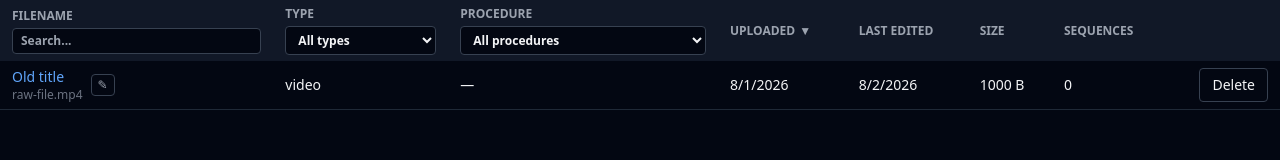
MediaLibraryTable › keeps Save disabled for a blank name
Expected: the text "Old title" is shown, [12, 67, 64, 86]
Click the button named "rename \"Old title\"": {"x": 103, "y": 85} [90, 74, 115, 96]
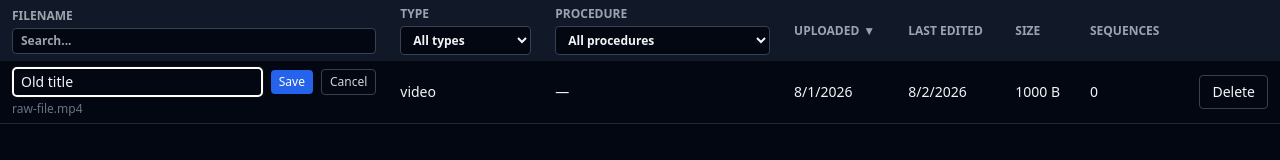
Clear the field named "name": {"x": 137, "y": 82} [12, 67, 263, 97]
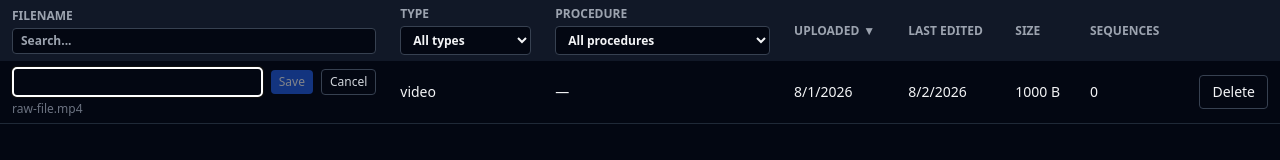
Now the button "Save" is disabled, box [271, 70, 313, 94]
